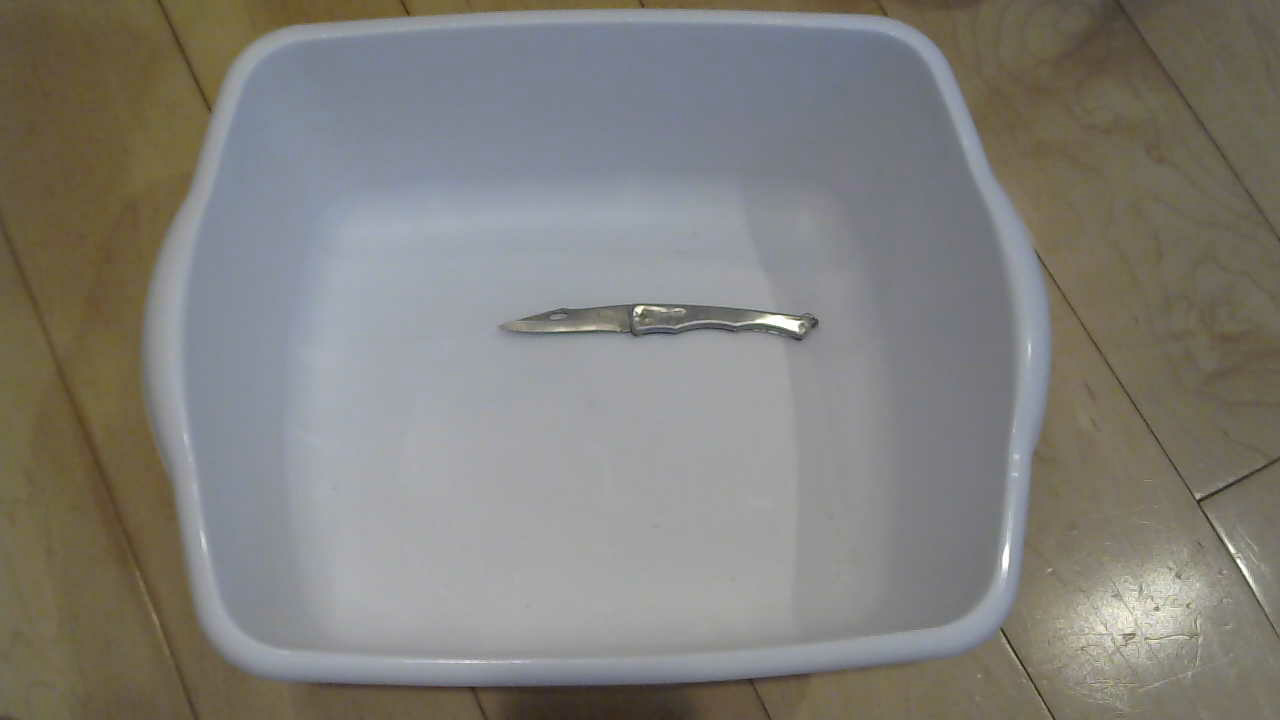knife: (503, 291, 848, 356)
